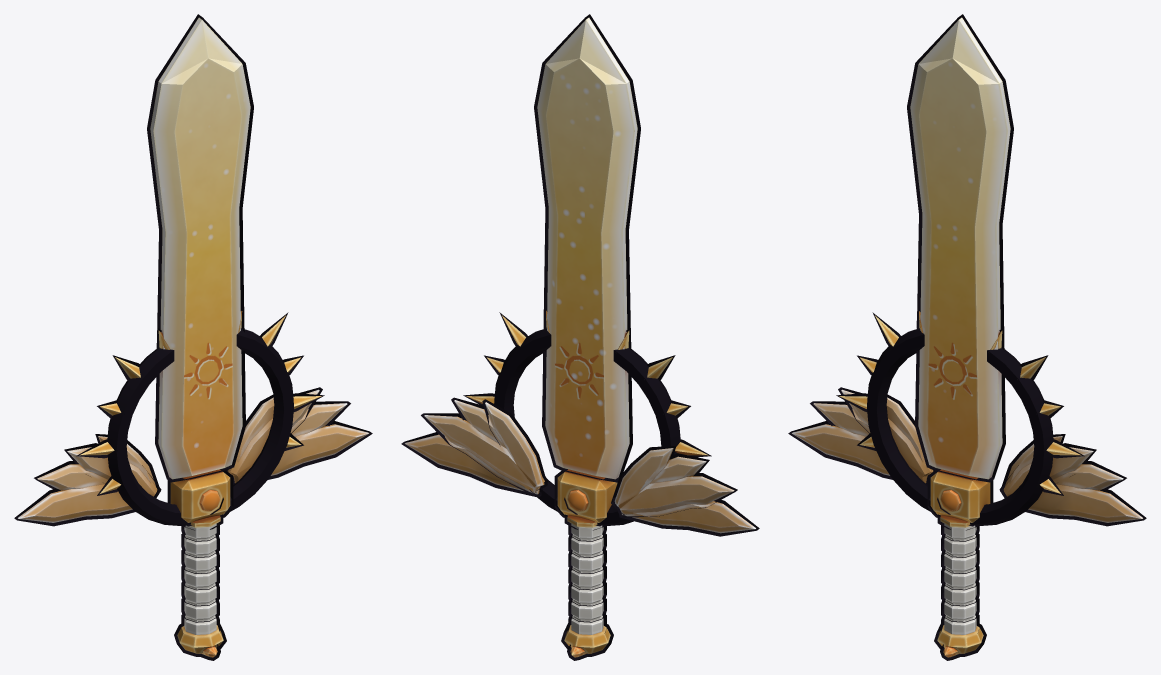
File: SunGodSword.fbx
3 views of the same model, side by side, from view 1: azimuth 30°, elevation 25°; view 2: azimuth 150°, elevation 25°; view 3: azimuth 330°, elevation 25° (orthographic).
Parts seen in each view (by area): view 1: SunGodSword, SunGodSwordOutline; view 2: SunGodSword, SunGodSwordOutline; view 3: SunGodSword, SunGodSwordOutline.
Part boxes in pixels (x1,y1,x2,y2): SunGodSword: (18,17,368,653); SunGodSwordOutline: (14,14,372,660); SunGodSword: (405,17,755,653); SunGodSwordOutline: (401,14,759,660); SunGodSword: (792,17,1142,653); SunGodSwordOutline: (788,14,1146,660).
Bounding box in the file's own units: 263 × 451 × 44.4.
2 materials, 1 textured.
